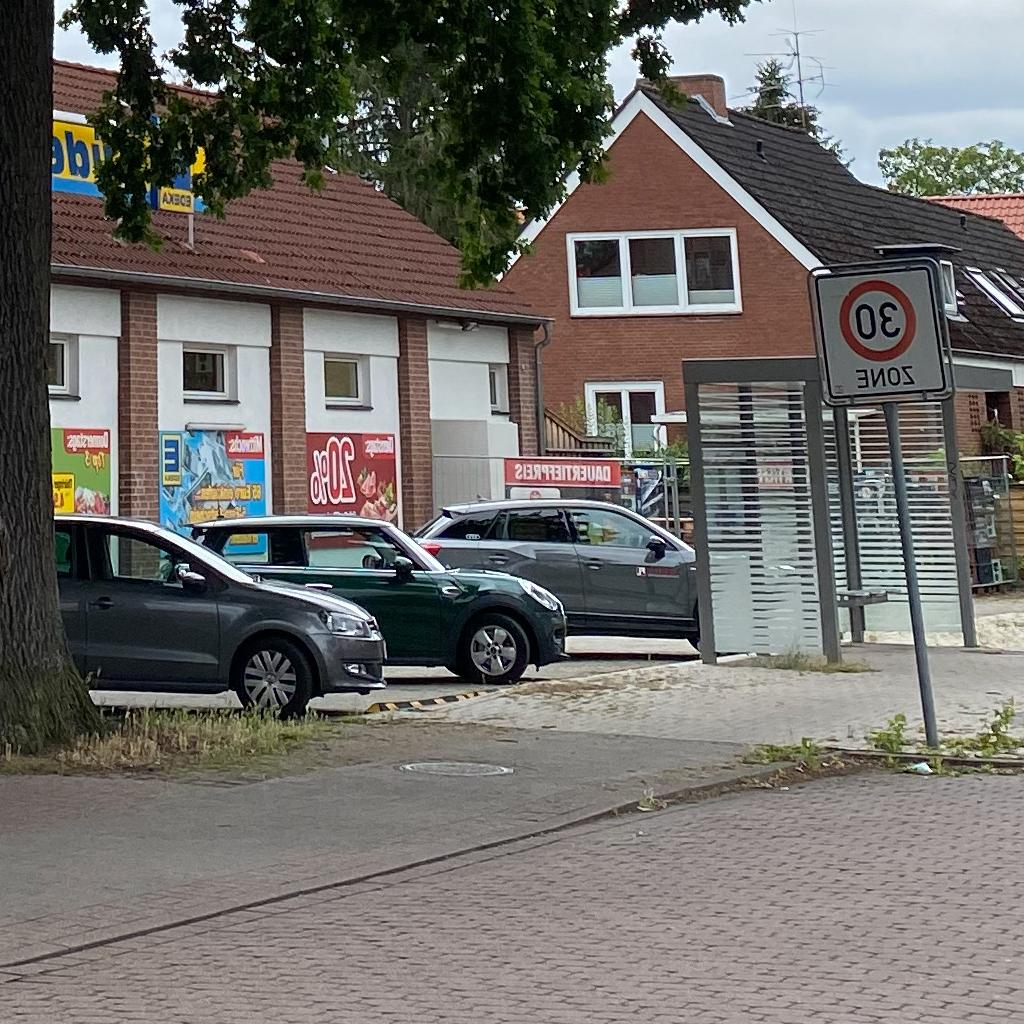tree: (1, 1, 767, 757), (734, 58, 856, 168), (877, 136, 1024, 196)
